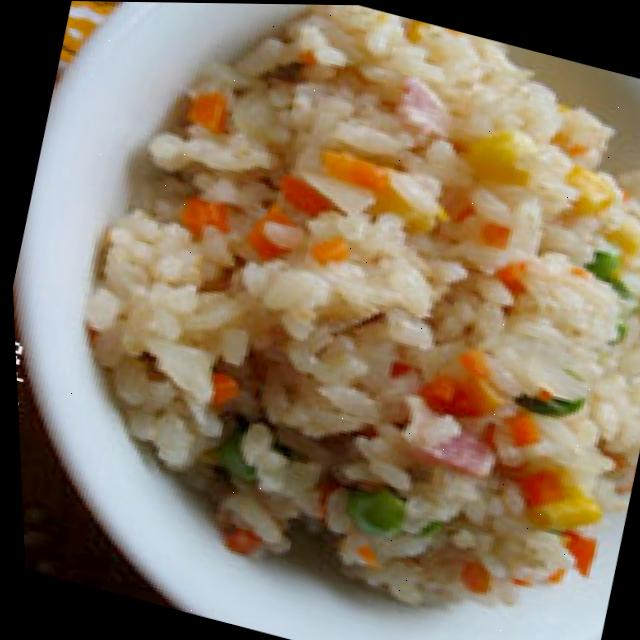米饭主食: (75, 1, 640, 622)
